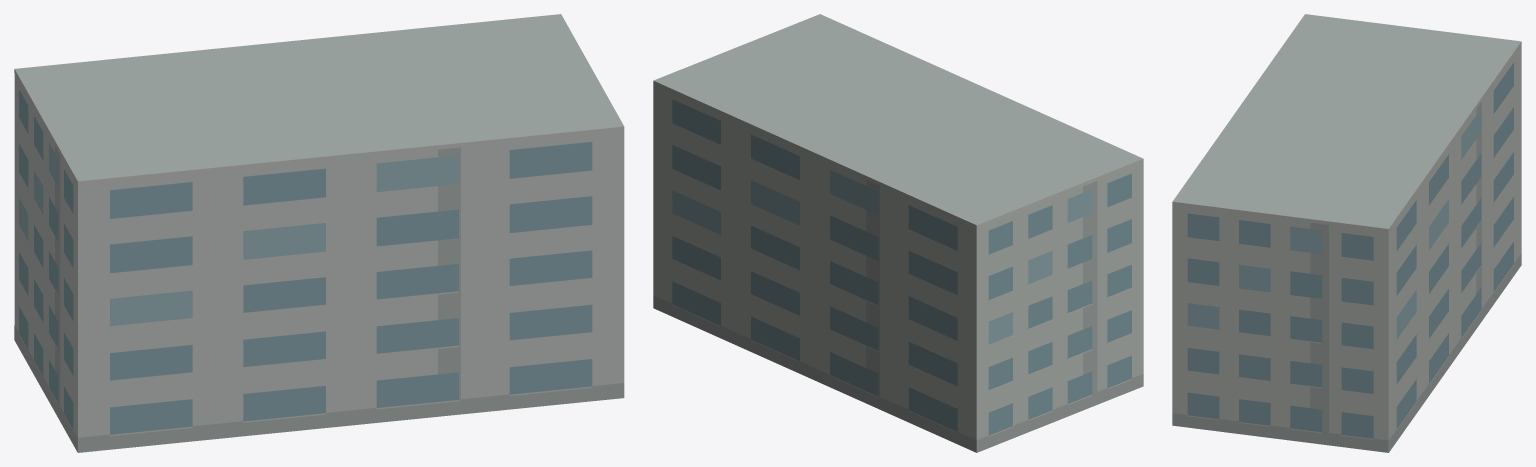
Rendered from residential-ba361993-1960-4e72-be3d-fdeec0bc0a52.glb.
The picture shows the model from 3 angles, left to right: view 1: azimuth 30°, elevation 25°; view 2: azimuth 150°, elevation 25°; view 3: azimuth 270°, elevation 25°; orthographic projection. The views are drawn at different scales.
Visible parts, largest first — view 1: residential-ba361993-1960-4e72-be3d-fdeec0bc0a52.tmp; view 2: residential-ba361993-1960-4e72-be3d-fdeec0bc0a52.tmp; view 3: residential-ba361993-1960-4e72-be3d-fdeec0bc0a52.tmp.
Boxes of the visible parts, <box> form: residential-ba361993-1960-4e72-be3d-fdeec0bc0a52.tmp: <box>14,14,624,452</box>; residential-ba361993-1960-4e72-be3d-fdeec0bc0a52.tmp: <box>653,14,1143,452</box>; residential-ba361993-1960-4e72-be3d-fdeec0bc0a52.tmp: <box>1172,14,1521,452</box>.
Size of the model in its own units: 31.41 by 15.25 by 21.55.
